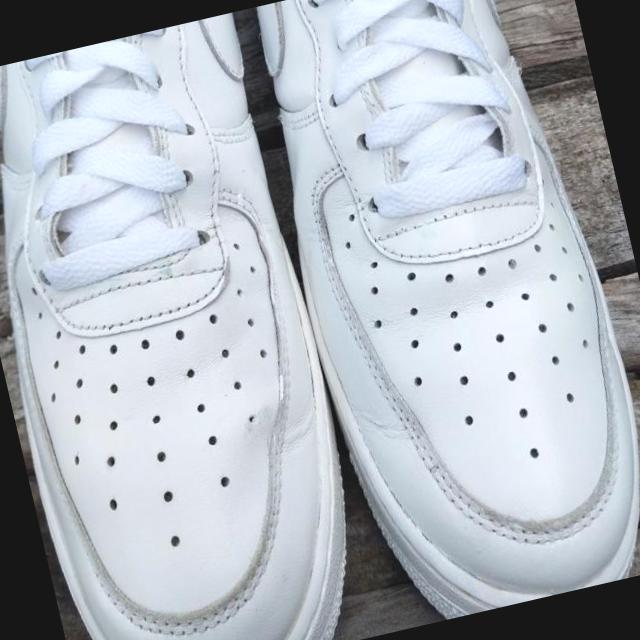nike_original_airforce: (229, 0, 640, 632), (0, 11, 379, 640)
